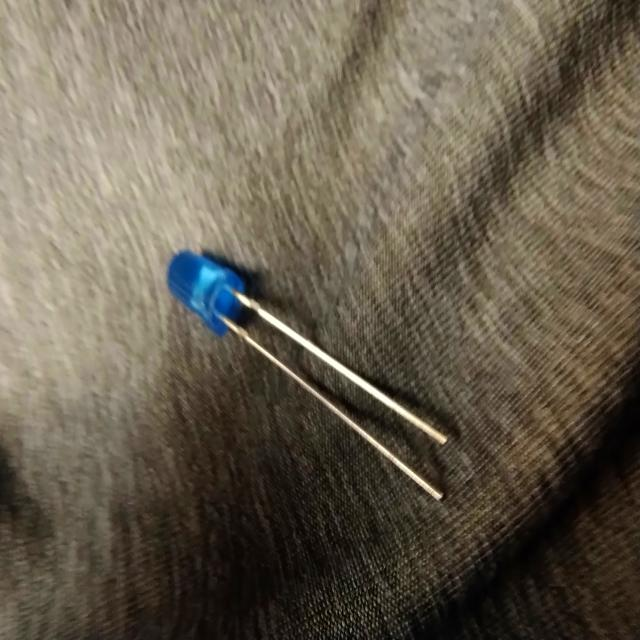blue_led: (166, 248, 248, 338)
